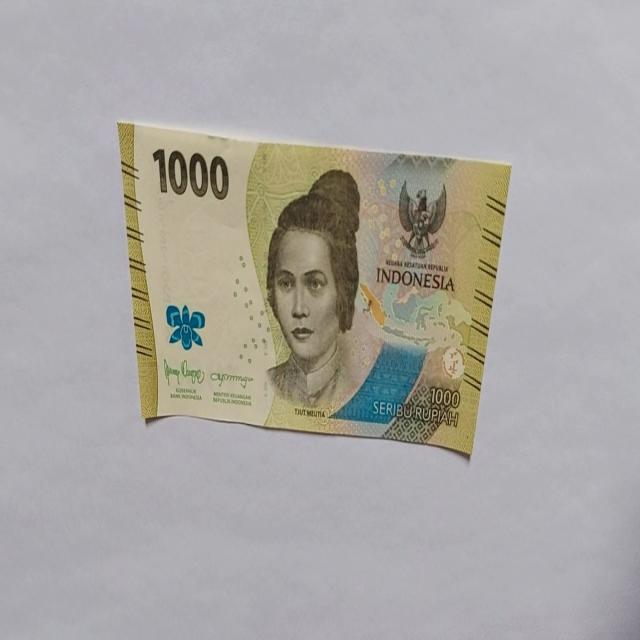seribu rupiah kertas: (116, 118, 512, 457)
